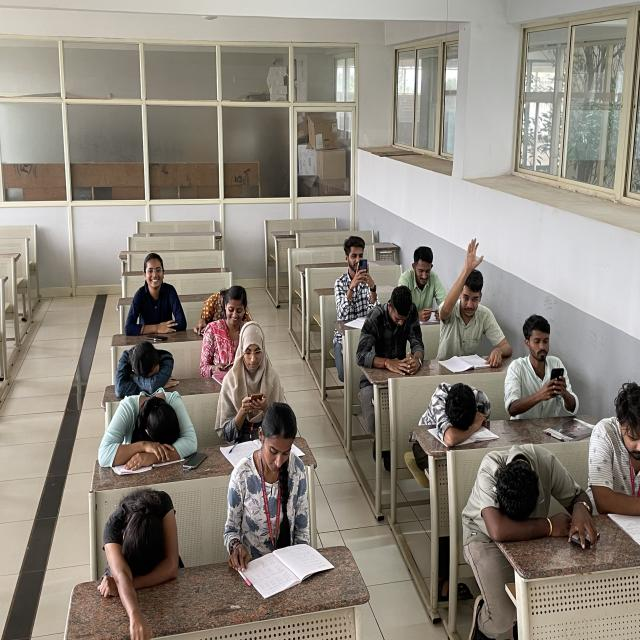Hand Rising: (438, 234, 504, 356)
Reading: (226, 407, 325, 580)
Sleeping: (92, 476, 188, 606), (476, 438, 594, 542), (97, 385, 198, 465), (417, 379, 492, 442), (113, 340, 181, 394)
Using Phone: (507, 311, 585, 410), (218, 320, 288, 428), (363, 283, 428, 371), (199, 288, 252, 385), (335, 233, 384, 312)
